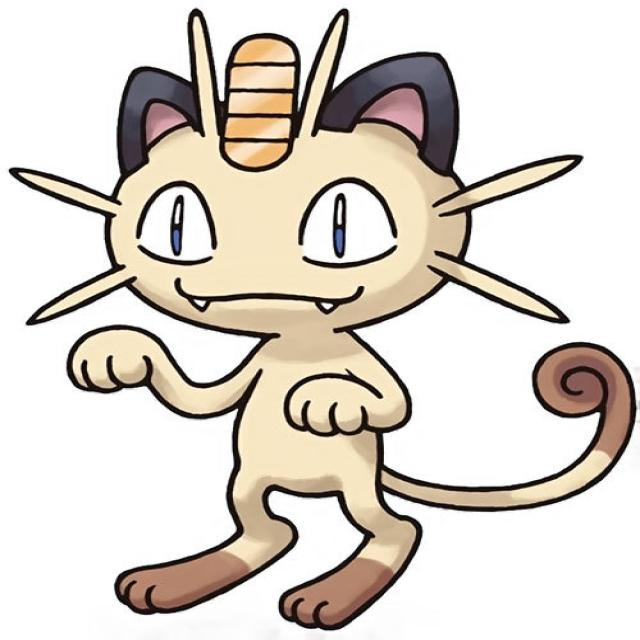Meowth: (24, 0, 640, 640)
